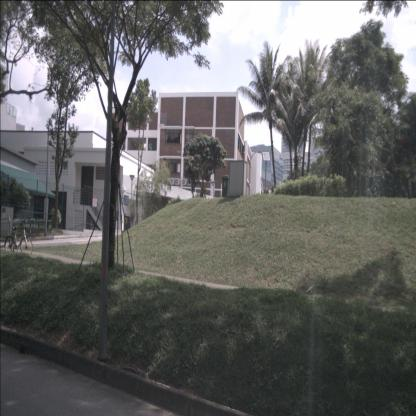vehicle-bicycle: (5, 218, 33, 256)
